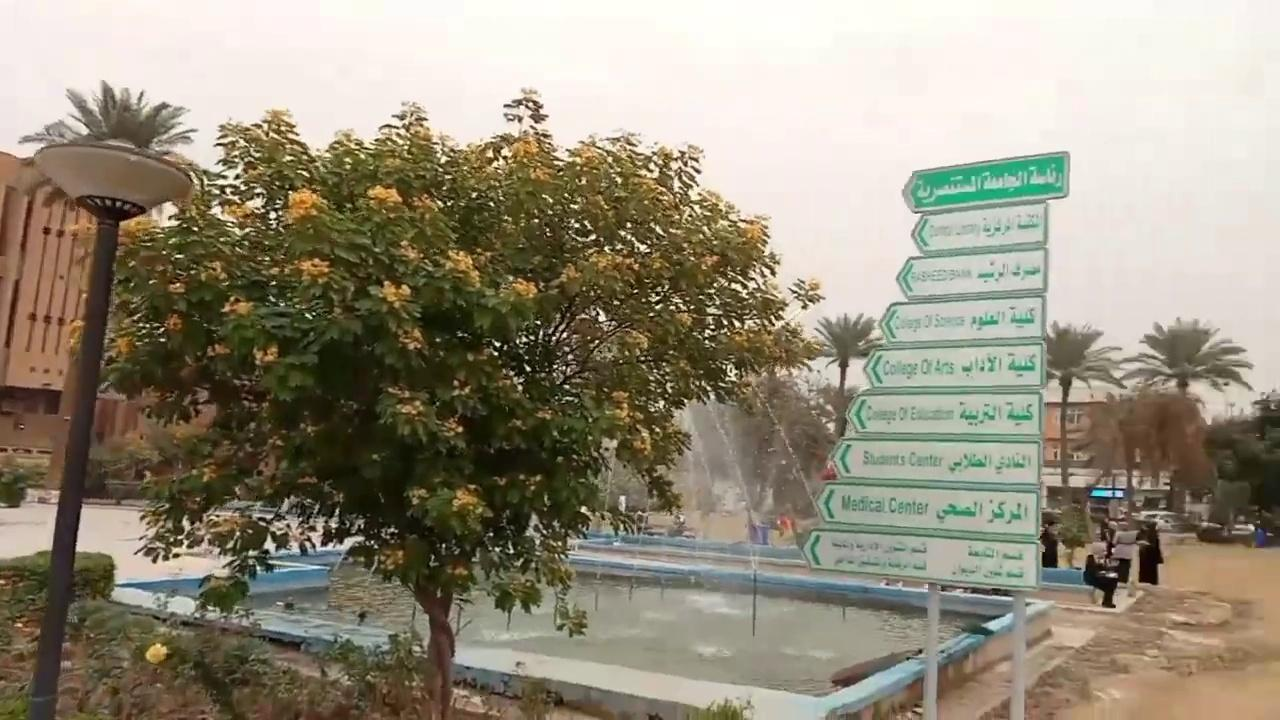fountain: (109, 530, 1055, 718), (578, 380, 826, 555)
person: (1082, 553, 1118, 607), (1039, 520, 1060, 568), (776, 507, 798, 545), (633, 507, 648, 534)
tree: (72, 85, 828, 718), (16, 79, 197, 717), (1118, 315, 1254, 511), (725, 366, 834, 533), (1043, 319, 1125, 496), (1119, 315, 1254, 406), (1202, 413, 1278, 532), (812, 311, 881, 437), (1054, 501, 1090, 568)
